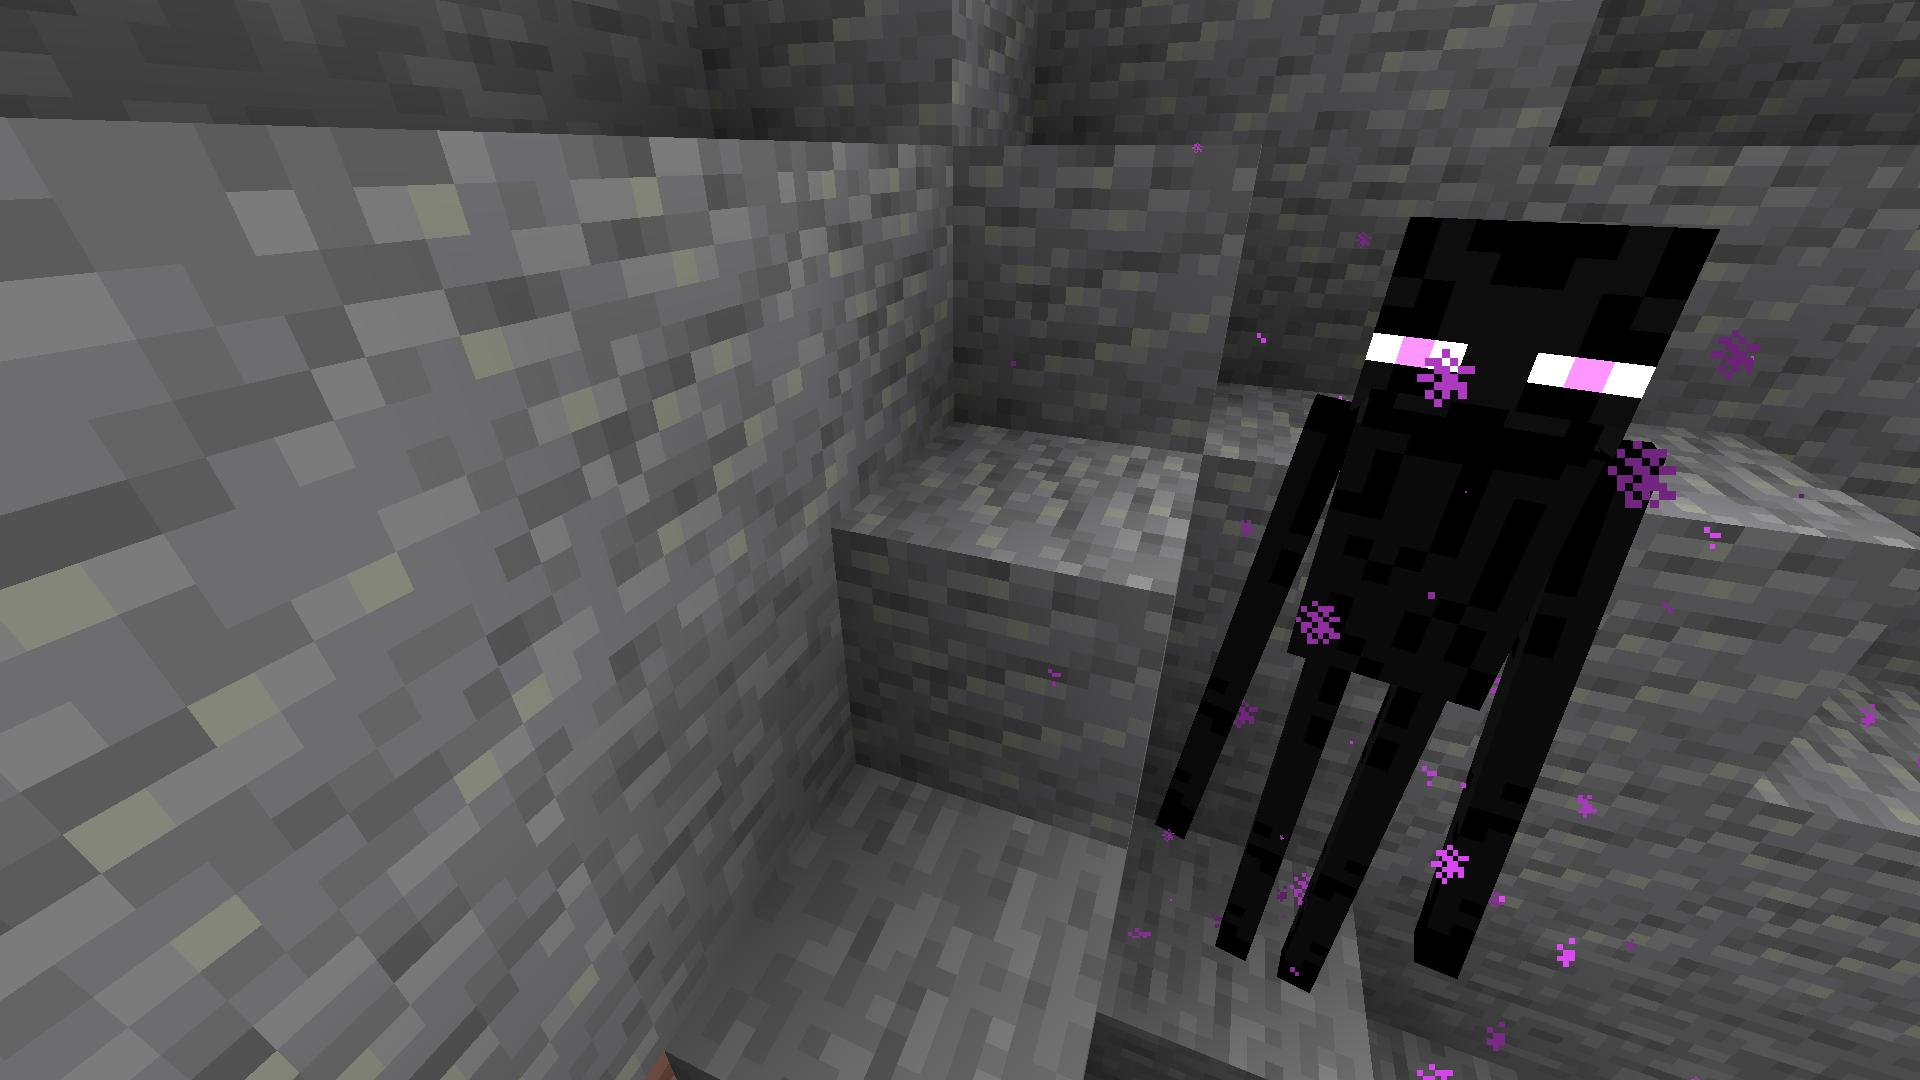enderman: (1141, 198, 1726, 1002)
